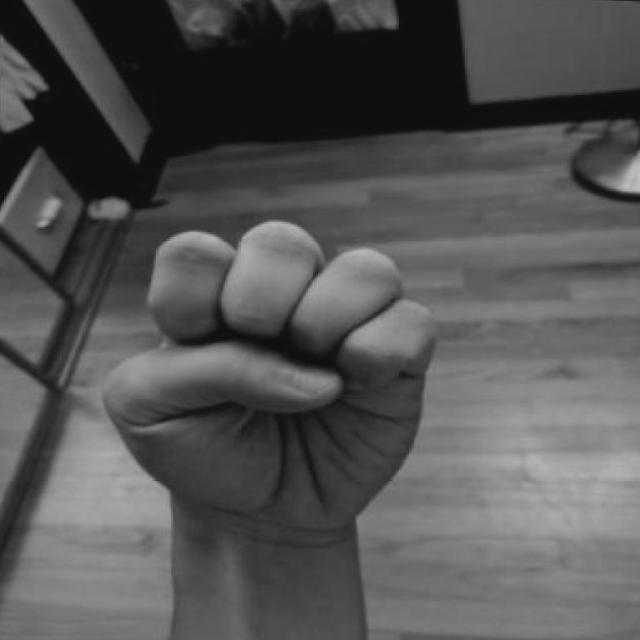E: (85, 210, 464, 581)
